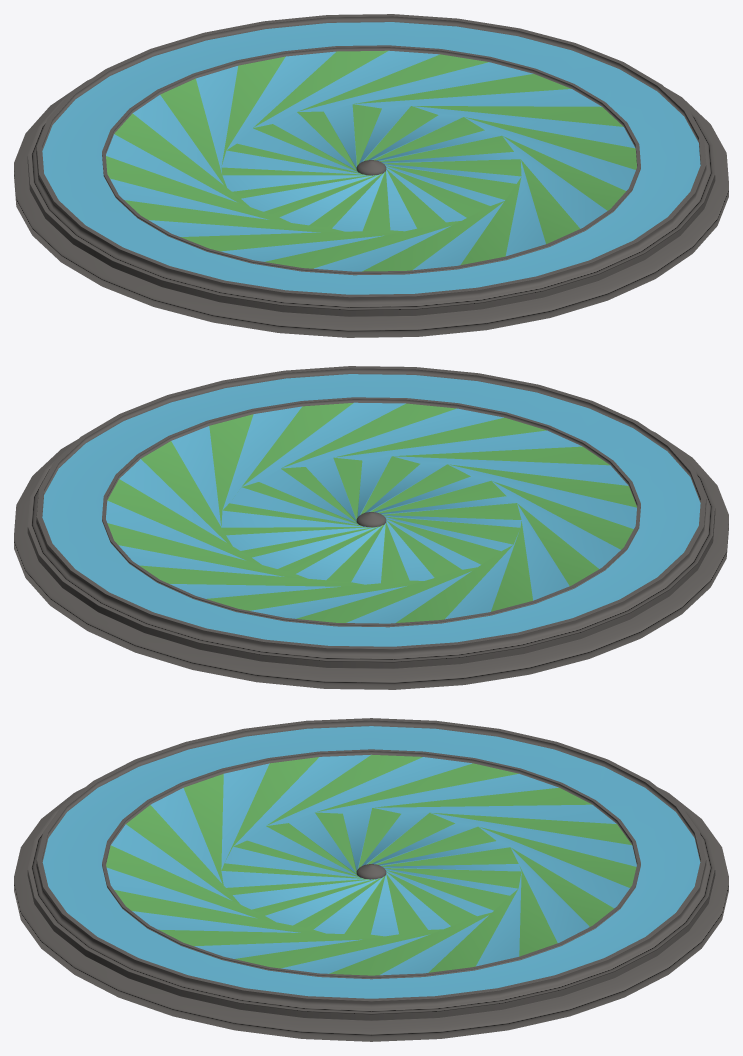
3 renders of one model, top to bottom at view 1: azimuth 30°, elevation 25°; view 2: azimuth 150°, elevation 25°; view 3: azimuth 270°, elevation 25°, orthographic.
Visible parts, largest first — view 1: Cylinder; view 2: Cylinder; view 3: Cylinder.
Boxes of the visible parts, left/top/right/bottom form: Cylinder: left=14, top=14, right=728, bottom=337; Cylinder: left=14, top=366, right=728, bottom=689; Cylinder: left=14, top=718, right=728, bottom=1041.
Bounding box in the file's own units: 97.66 × 4.71 × 97.66.
